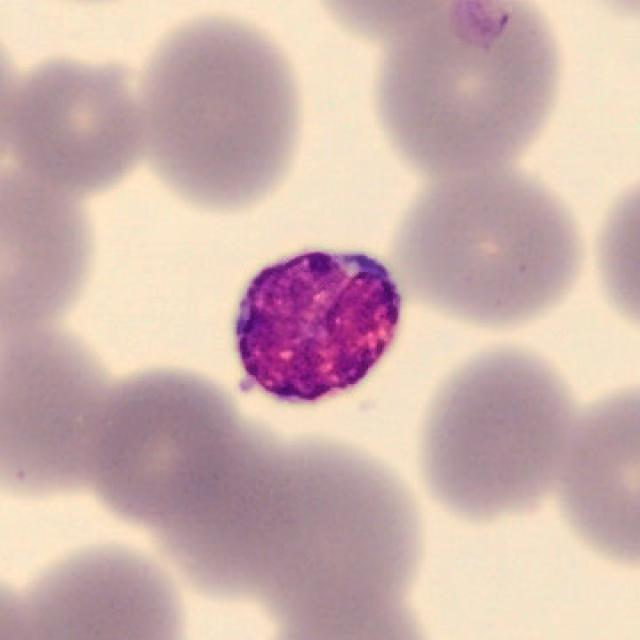Linfocito: (233, 252, 402, 405)
